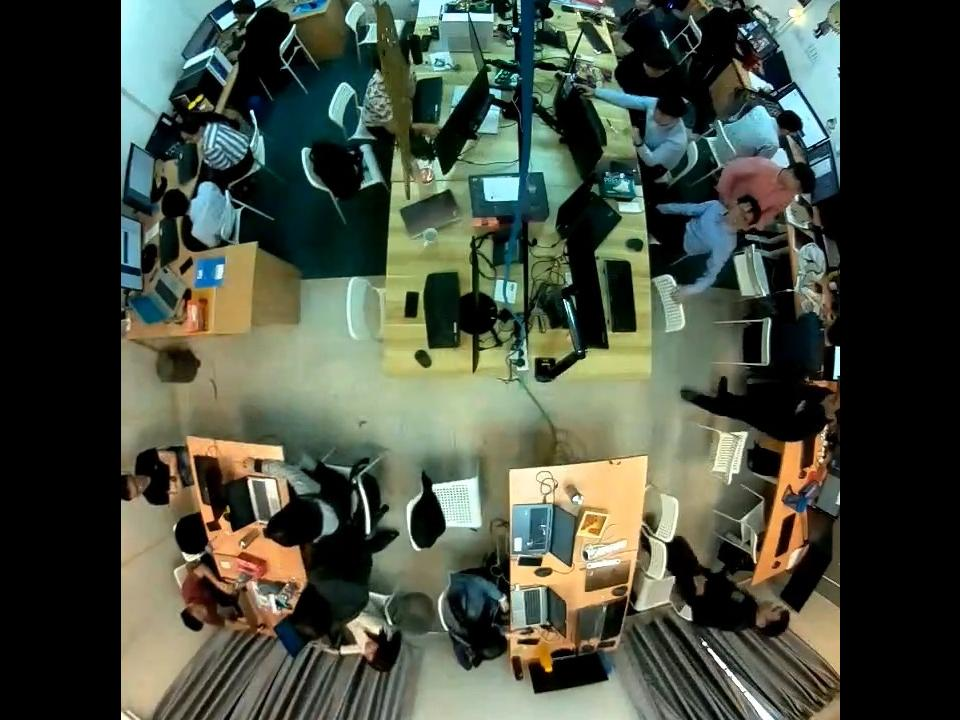name-tag: (792, 397, 807, 416)
